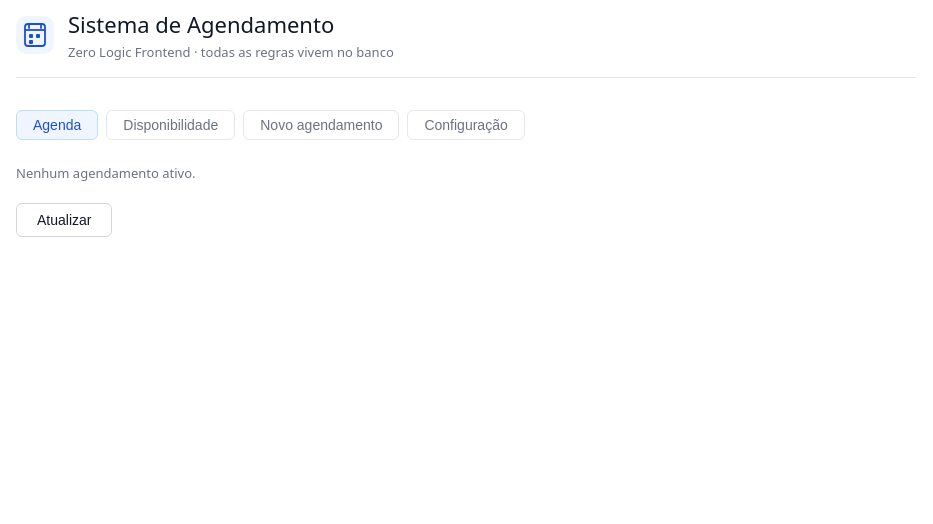
Test: Novo agendamento › exibe mensagem de sucesso após agendar
This screenshot has width=933, height=524.
Click the button "Novo agendamento": (321, 125) [243,110,399,140]
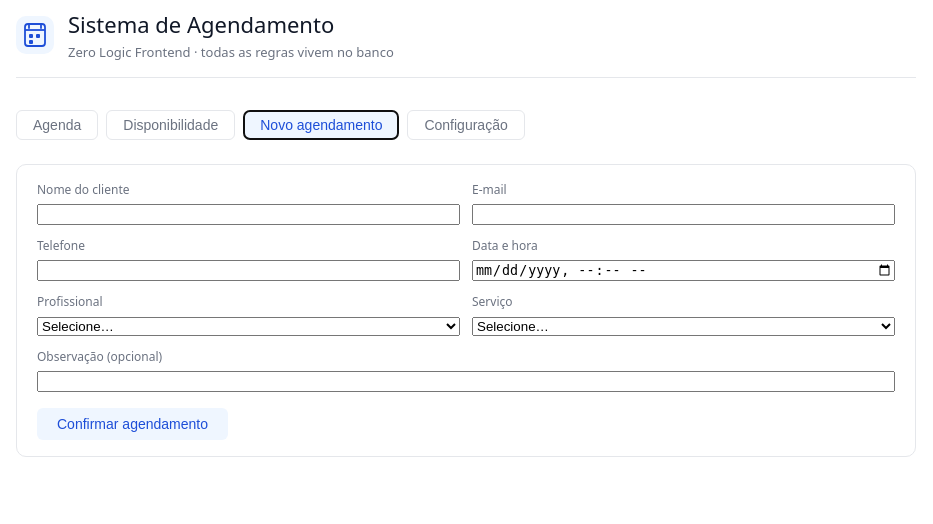
Expected: the button "Confirmar agendamento" is shown
Click the button "Confirmar agendamento": (132, 424) [37,408,228,440]
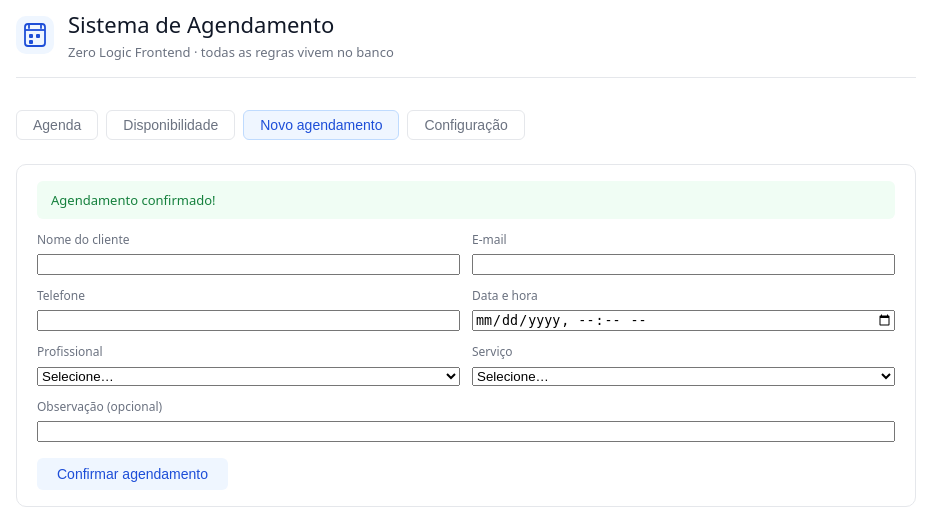
Expected: the text "Agendamento confirmado!" is shown, [37,181,895,219]
